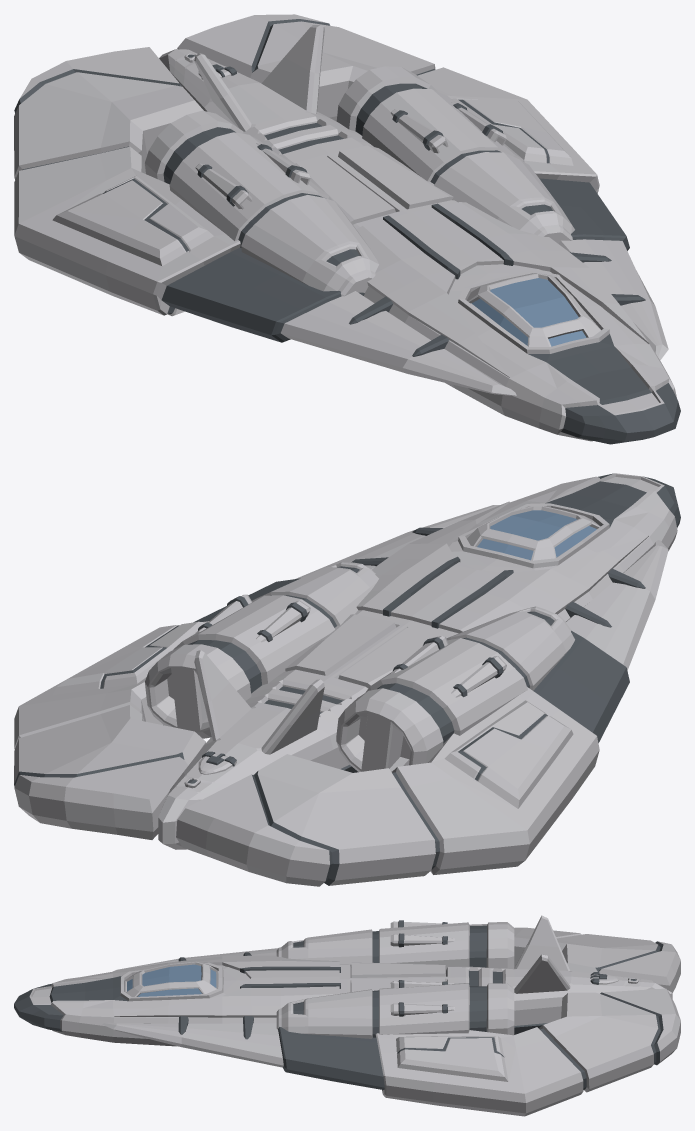
Rendered from Fighter_02_Neutral.fbx.
3 renders of one model, top to bottom at view 1: azimuth 30°, elevation 25°; view 2: azimuth 150°, elevation 25°; view 3: azimuth 270°, elevation 25°, orthographic. The views are drawn at different scales.
Visible parts, largest first — view 1: Fighter_02_Neutral; view 2: Fighter_02_Neutral; view 3: Fighter_02_Neutral.
Part boxes in pixels (bbox=[...]): Fighter_02_Neutral: bbox=[14, 14, 680, 444]; Fighter_02_Neutral: bbox=[14, 473, 680, 886]; Fighter_02_Neutral: bbox=[14, 915, 680, 1116].
Bounding box in the file's own units: 783 × 220 × 1310.
3 materials, 3 textured.
